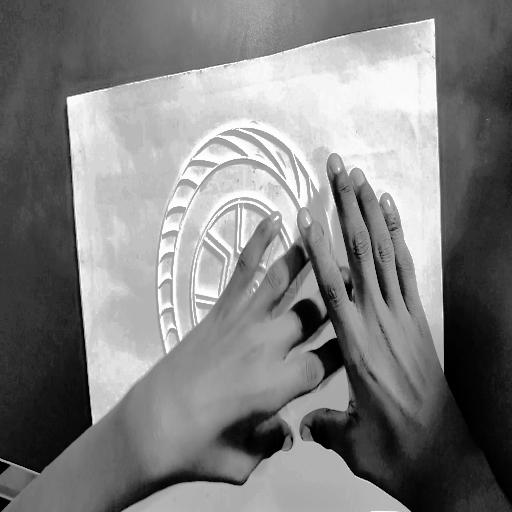tire: (137, 99, 362, 494)
top_left: (64, 89, 73, 111)
top_right: (429, 11, 439, 29)
